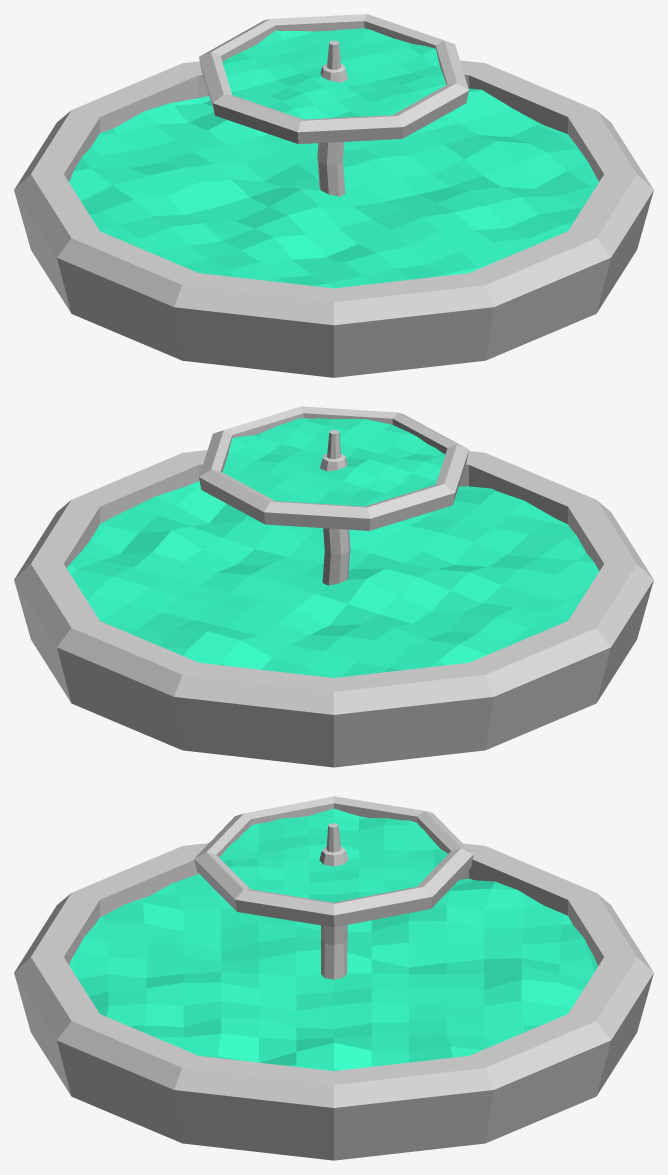
File: fountain.fbx
3 renders of one model, top to bottom at view 1: azimuth 30°, elevation 25°; view 2: azimuth 150°, elevation 25°; view 3: azimuth 270°, elevation 25°, orthographic.
Visible parts, largest first — view 1: Окружность, Плоскость, Плоскость.002; view 2: Окружность, Плоскость, Плоскость.002; view 3: Окружность, Плоскость, Плоскость.002.
Part boxes in pixels (left/top/right/bottom): Окружность: left=14, top=14, right=653, bottom=377; Плоскость: left=69, top=88, right=598, bottom=288; Плоскость.002: left=222, top=28, right=446, bottom=119; Окружность: left=14, top=406, right=653, bottom=767; Плоскость: left=67, top=481, right=599, bottom=677; Плоскость.002: left=222, top=418, right=445, bottom=506; Окружность: left=14, top=796, right=653, bottom=1160; Плоскость: left=69, top=874, right=597, bottom=1070; Плоскость.002: left=219, top=808, right=447, bottom=902.
Bounding box in the file's own units: 154 × 55.12 × 154.
